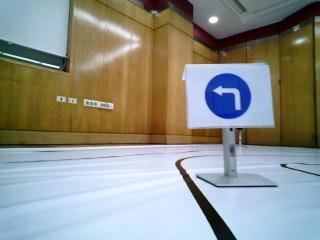left: (193, 73, 261, 123)
